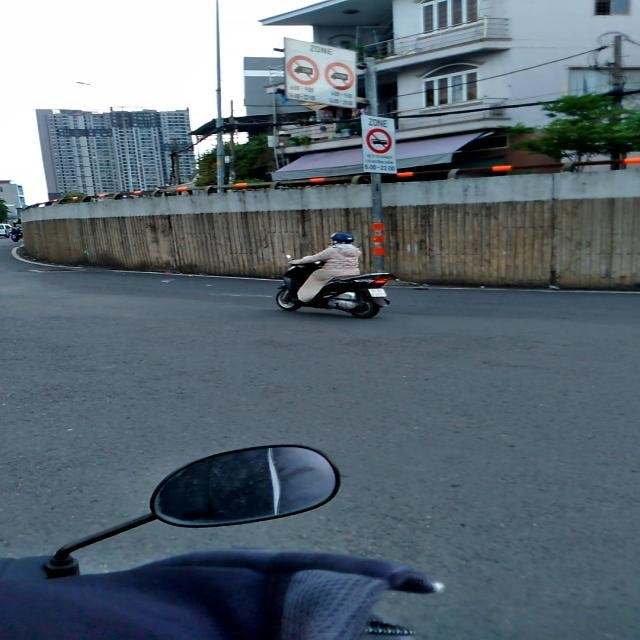bien_cam: (286, 55, 320, 85), (324, 61, 354, 90), (366, 128, 392, 154)
